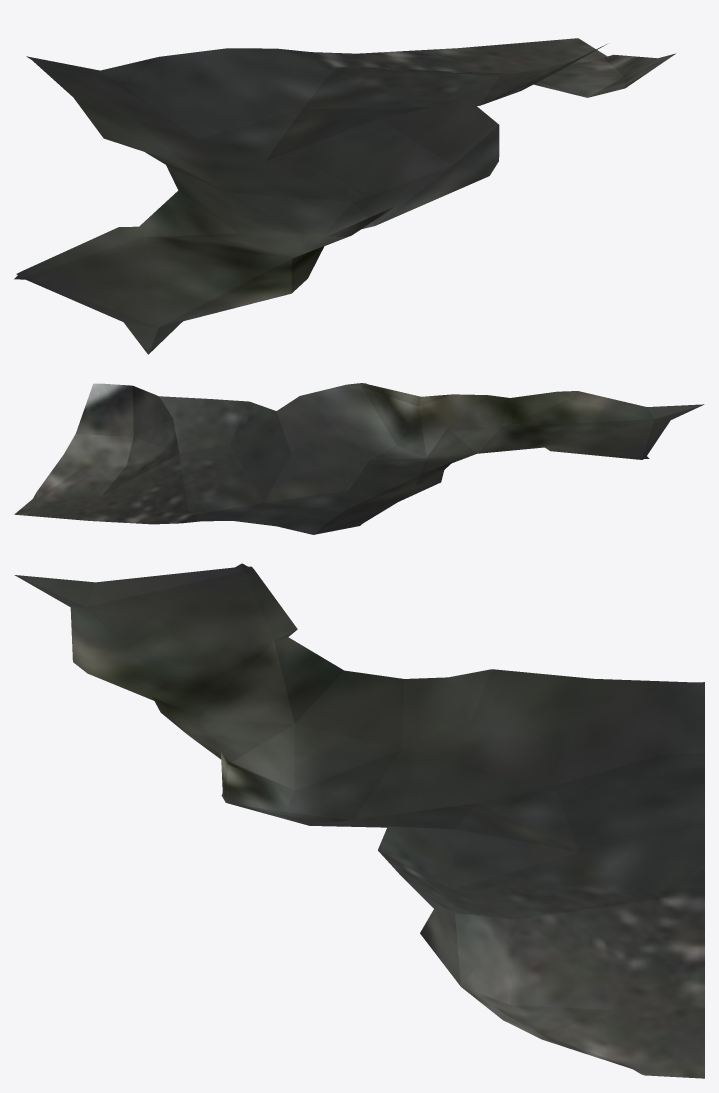
3 renders of one model, top to bottom at view 1: azimuth 30°, elevation 25°; view 2: azimuth 150°, elevation 25°; view 3: azimuth 270°, elevation 25°, orthographic. The views are drawn at different scales.
Size of the model in its own units: 0.7224 by 0.1021 by 0.5334.
1 material, 1 textured.
